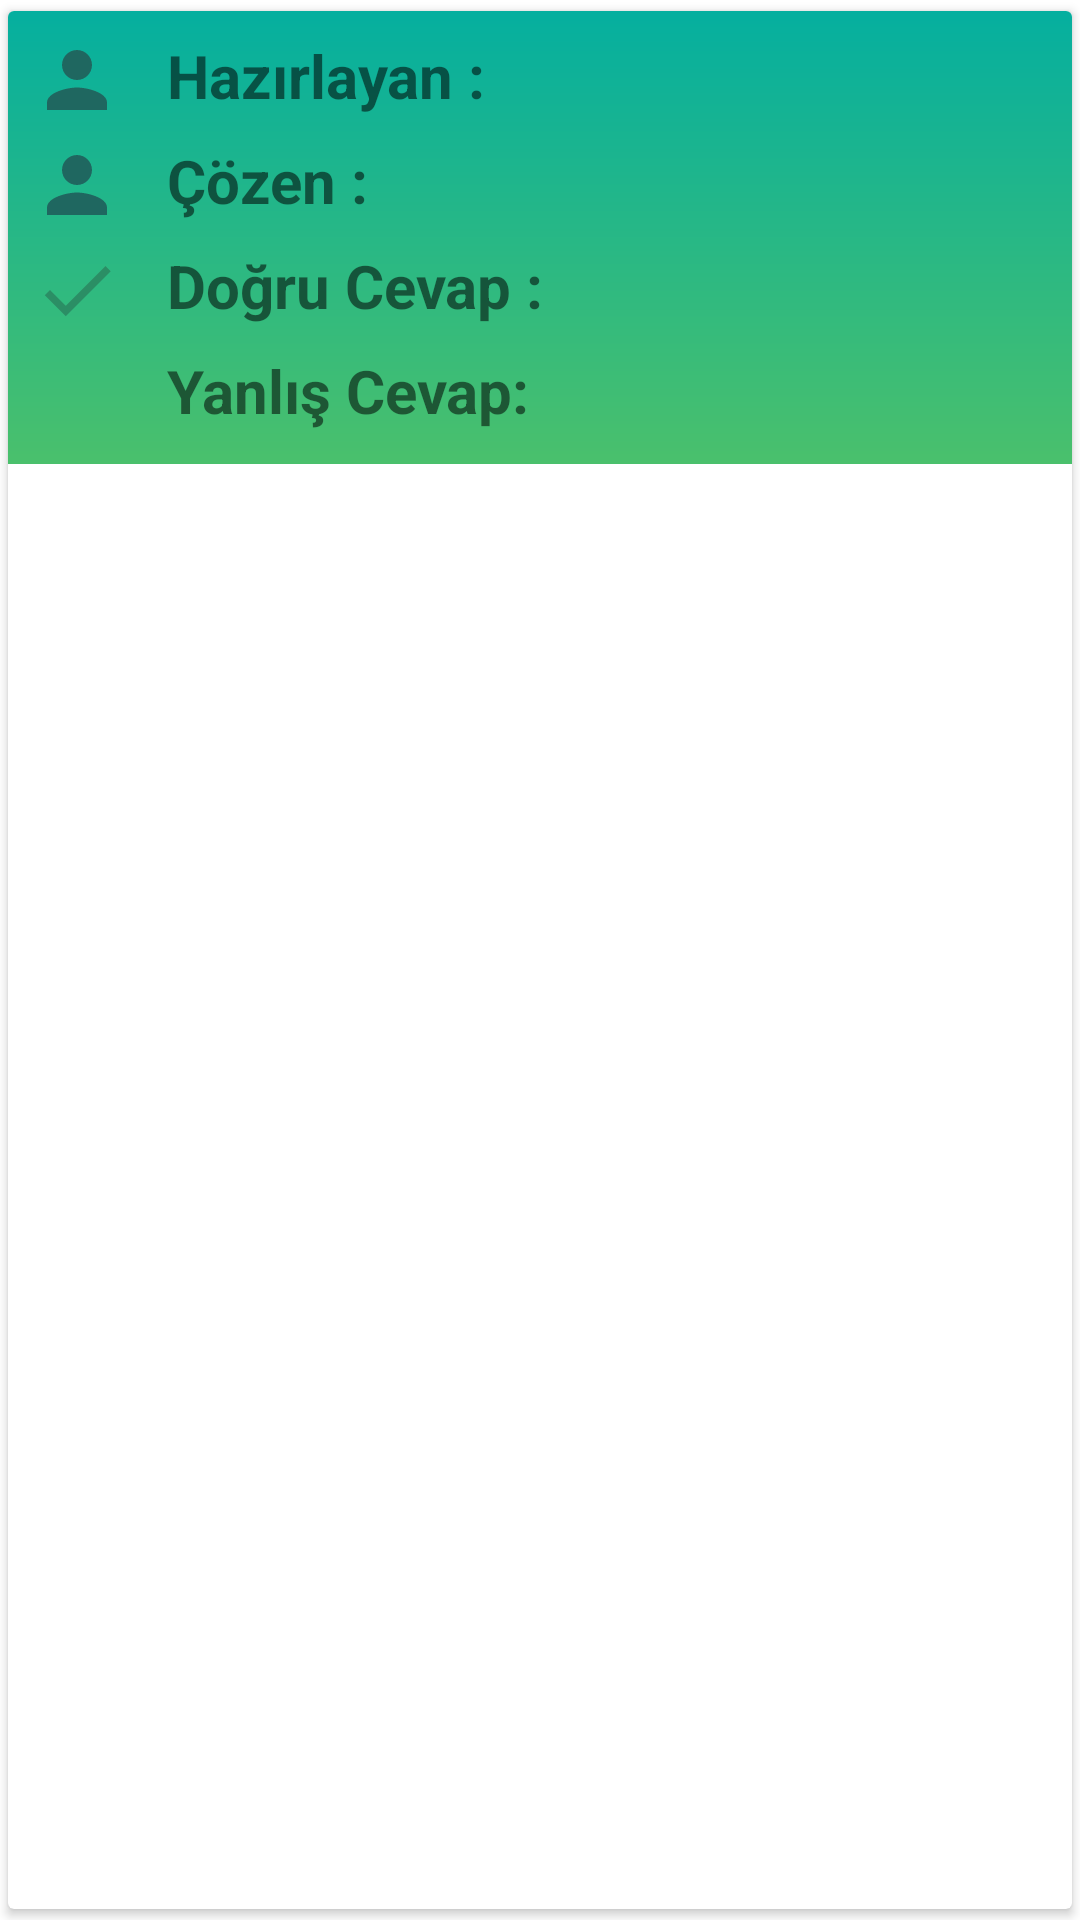

Named icons in this screenshot (1080*1920) and their centers, (x,y):
done: (77,291)
person: (77,80), (77,185)
